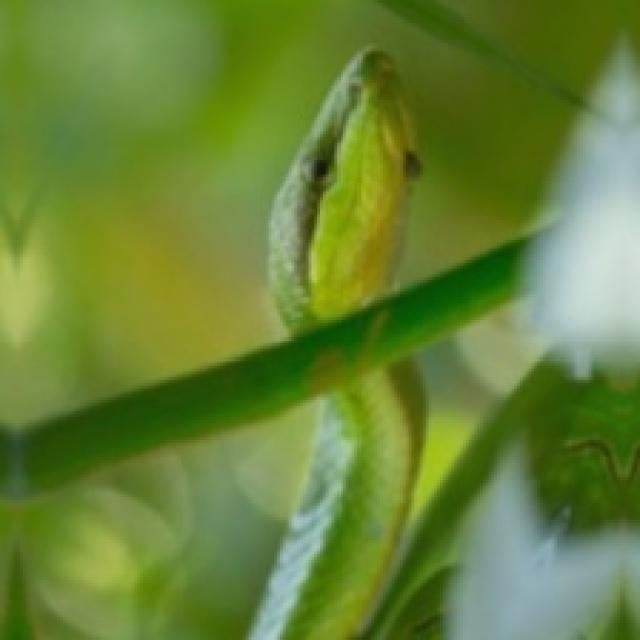red-tailed green ratsnake: (249, 360, 423, 637), (269, 49, 417, 331), (269, 49, 417, 329)
